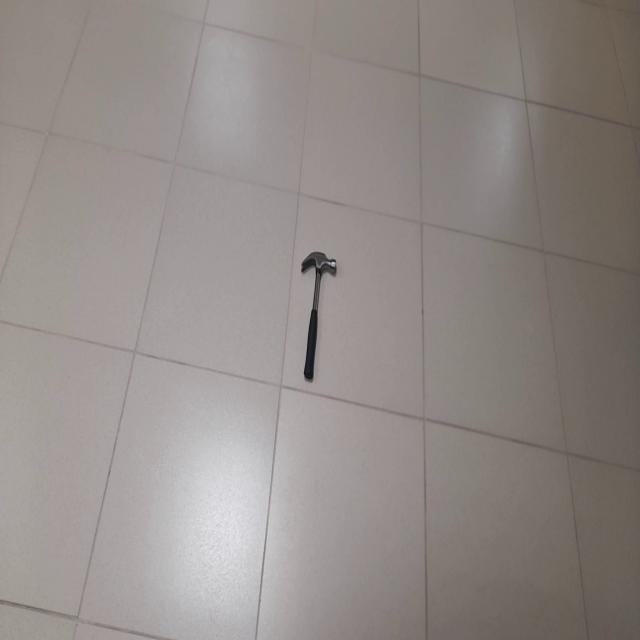hammer: (301, 252, 337, 379)
